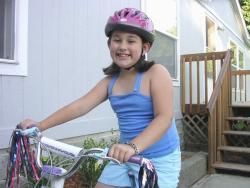With Helmet: (102, 5, 161, 70)
